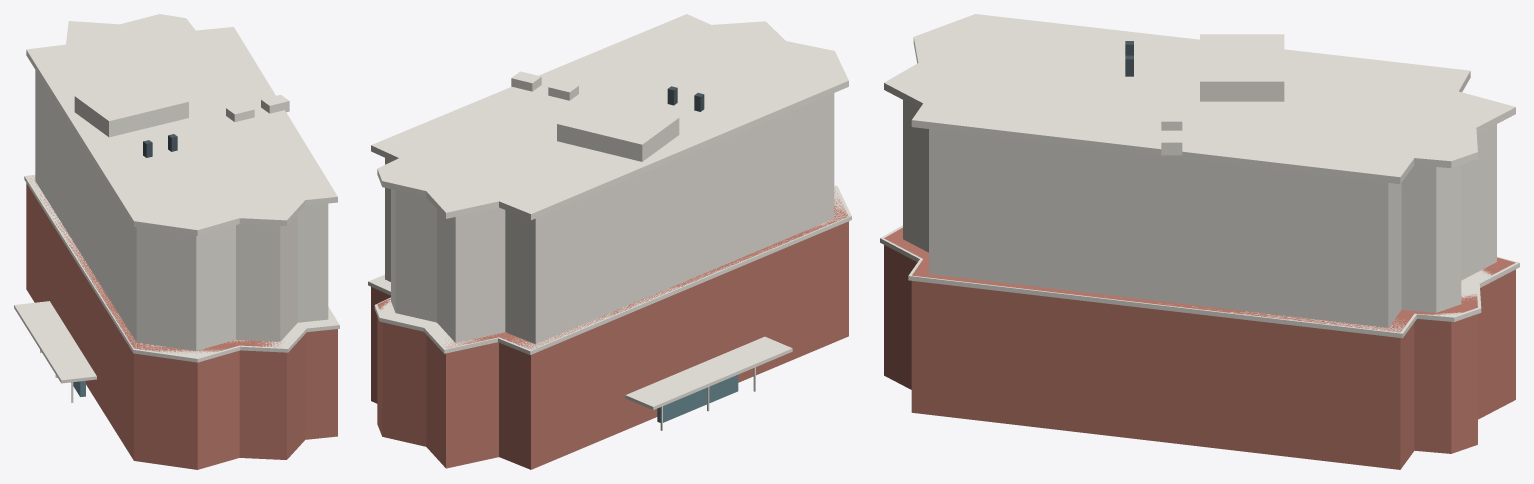
Rendered from tang_ping_yuan_building.glb.
3 views of the same model, side by side, from view 1: azimuth 30°, elevation 25°; view 2: azimuth 150°, elevation 25°; view 3: azimuth 270°, elevation 25° (orthographic). The views are drawn at different scales.
Visible parts, largest first — view 1: Tang Ping Yuan Building_parapet, Tang Ping Yuan Building_base, Tang Ping Yuan Building_upper, Tang Ping Yuan Building_roof_plant, Tang Ping Yuan Building_band, Tang Ping Yuan Building_canopy, Tang Ping Yuan Building_ac_1, Tang Ping Yuan Building_ac_0; view 2: Tang Ping Yuan Building_upper, Tang Ping Yuan Building_base, Tang Ping Yuan Building_parapet, Tang Ping Yuan Building_roof_plant, Tang Ping Yuan Building_band, Tang Ping Yuan Building_canopy, Tang Ping Yuan Building_door; view 3: Tang Ping Yuan Building_base, Tang Ping Yuan Building_upper, Tang Ping Yuan Building_parapet, Tang Ping Yuan Building_roof_plant, Tang Ping Yuan Building_band.
Boxes of the visible parts, box(x1,y1,x2,y2) form: Tang Ping Yuan Building_parapet: box(26, 14, 337, 235); Tang Ping Yuan Building_base: box(26, 177, 337, 469); Tang Ping Yuan Building_upper: box(35, 70, 328, 350); Tang Ping Yuan Building_roof_plant: box(74, 76, 188, 137); Tang Ping Yuan Building_band: box(24, 175, 339, 362); Tang Ping Yuan Building_canopy: box(14, 301, 96, 383); Tang Ping Yuan Building_ac_1: box(261, 95, 289, 113); Tang Ping Yuan Building_ac_0: box(226, 103, 254, 121); Tang Ping Yuan Building_upper: box(385, 93, 834, 344); Tang Ping Yuan Building_base: box(371, 190, 848, 469); Tang Ping Yuan Building_parapet: box(371, 14, 848, 220); Tang Ping Yuan Building_roof_plant: box(557, 97, 679, 161); Tang Ping Yuan Building_band: box(368, 185, 851, 354); Tang Ping Yuan Building_canopy: box(625, 336, 792, 410); Tang Ping Yuan Building_door: box(657, 375, 738, 422); Tang Ping Yuan Building_base: box(884, 227, 1515, 469); Tang Ping Yuan Building_upper: box(903, 100, 1496, 327); Tang Ping Yuan Building_parapet: box(884, 14, 1515, 184); Tang Ping Yuan Building_roof_plant: box(1200, 34, 1284, 101); Tang Ping Yuan Building_band: box(880, 225, 1519, 338).
Size of the model in its own units: 28.61 by 24.5 by 45.46.
